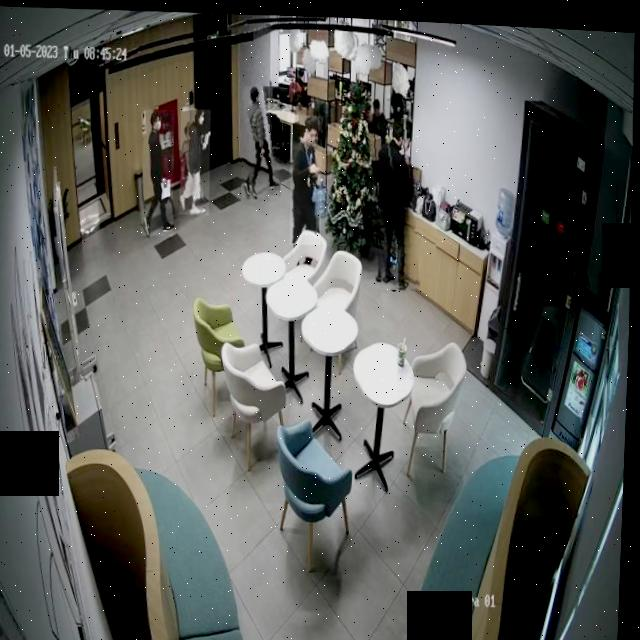person: (368, 112, 422, 286), (289, 111, 326, 242), (240, 82, 282, 197), (140, 106, 177, 234), (179, 105, 214, 213)
